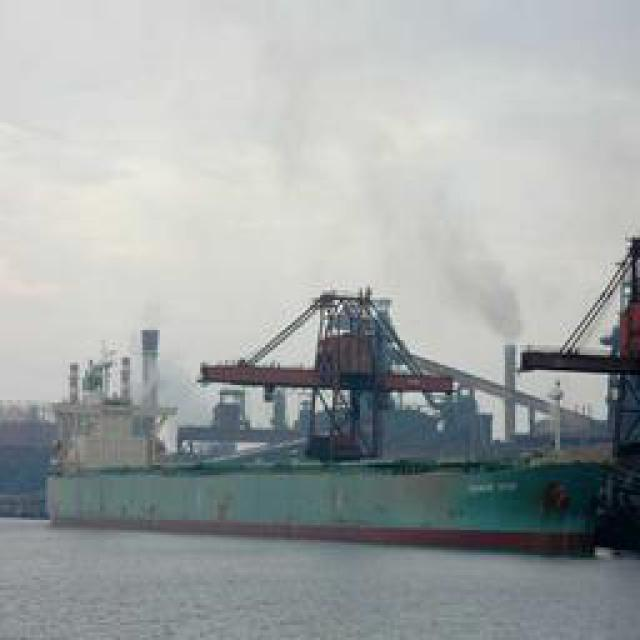Ship: (44, 282, 639, 545)
